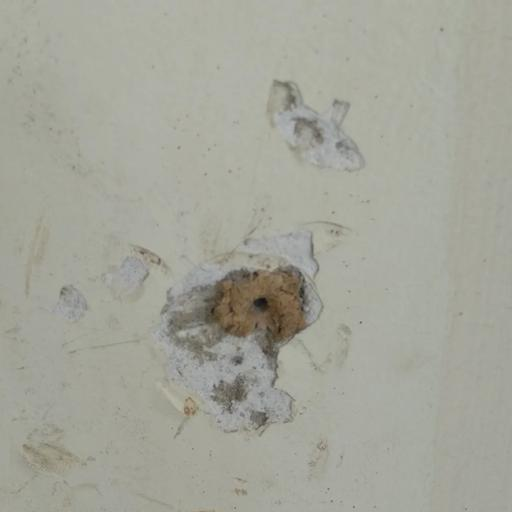peeling: (14, 204, 372, 450), (252, 53, 377, 165)
